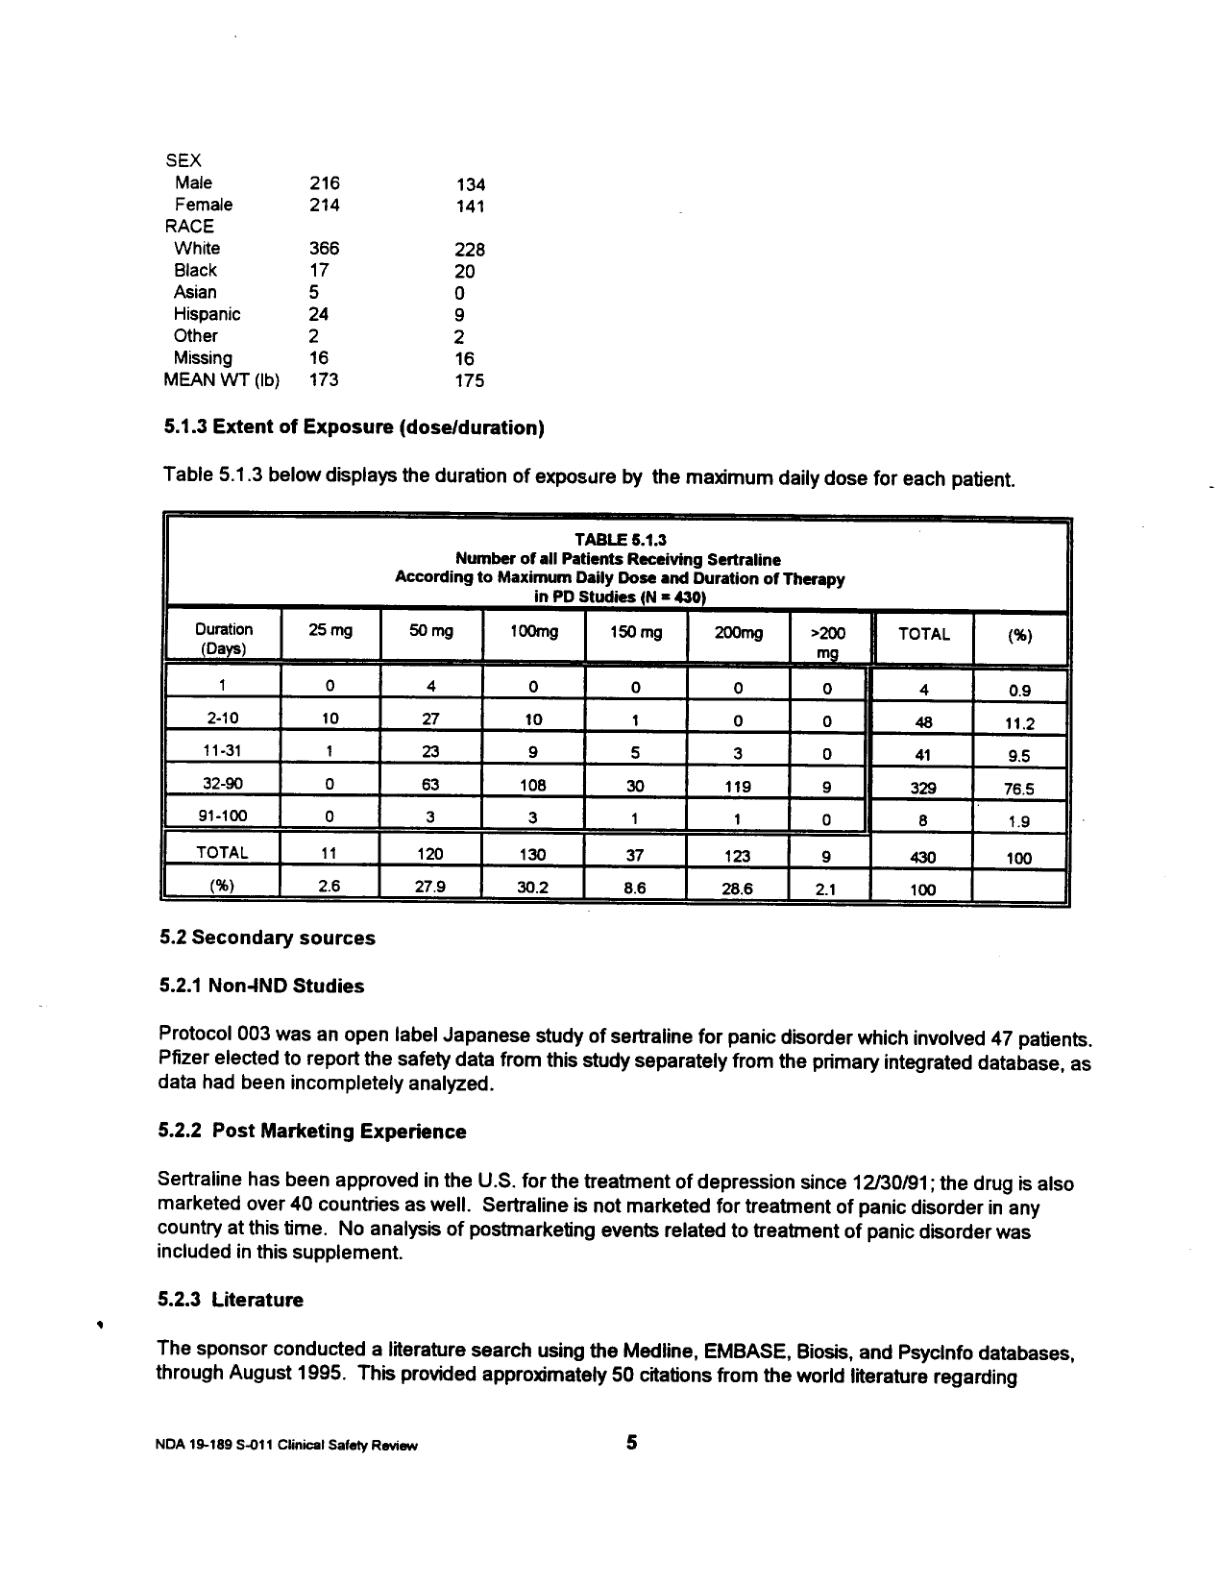merged_cells: (158, 508, 1074, 910)
nolines: (156, 145, 494, 398)
